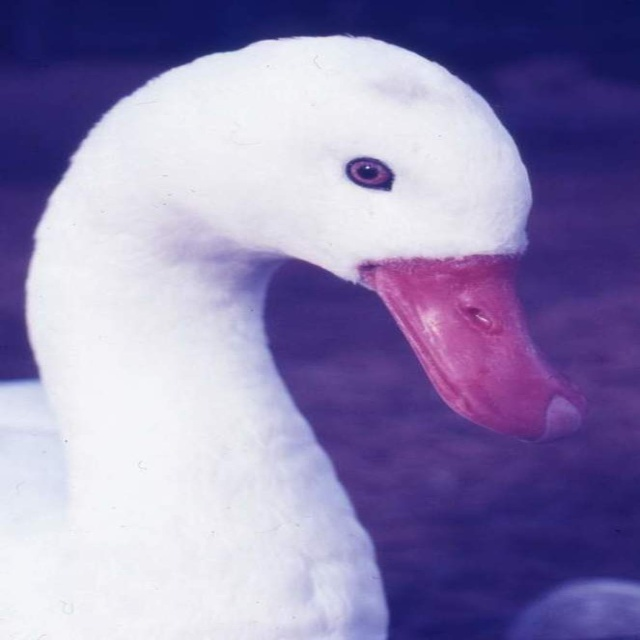Goose: (0, 57, 625, 607)
